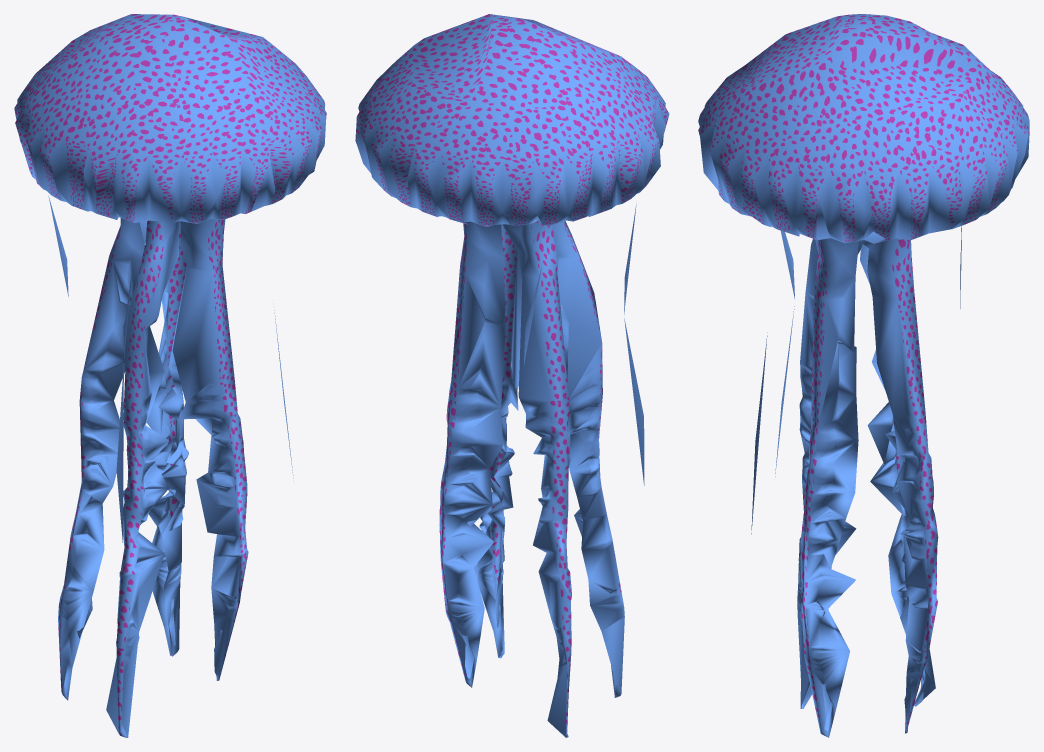
Rendered from jellyfish.glb.
The picture shows the model from 3 angles, left to right: view 1: azimuth 30°, elevation 25°; view 2: azimuth 150°, elevation 25°; view 3: azimuth 270°, elevation 25°; orthographic projection. The views are drawn at different scales.
Visible parts, largest first — view 1: Cylinder.001_Material.001_0; view 2: Cylinder.001_Material.001_0; view 3: Cylinder.001_Material.001_0.
Boxes of the visible parts, x1=… form: Cylinder.001_Material.001_0: x1=14, y1=14, x2=326, y2=737; Cylinder.001_Material.001_0: x1=355, y1=14, x2=669, y2=737; Cylinder.001_Material.001_0: x1=698, y1=14, x2=1029, y2=737.
Size of the model in its own units: 0.9106 by 2.16 by 0.9038.
1 material, 1 textured.
